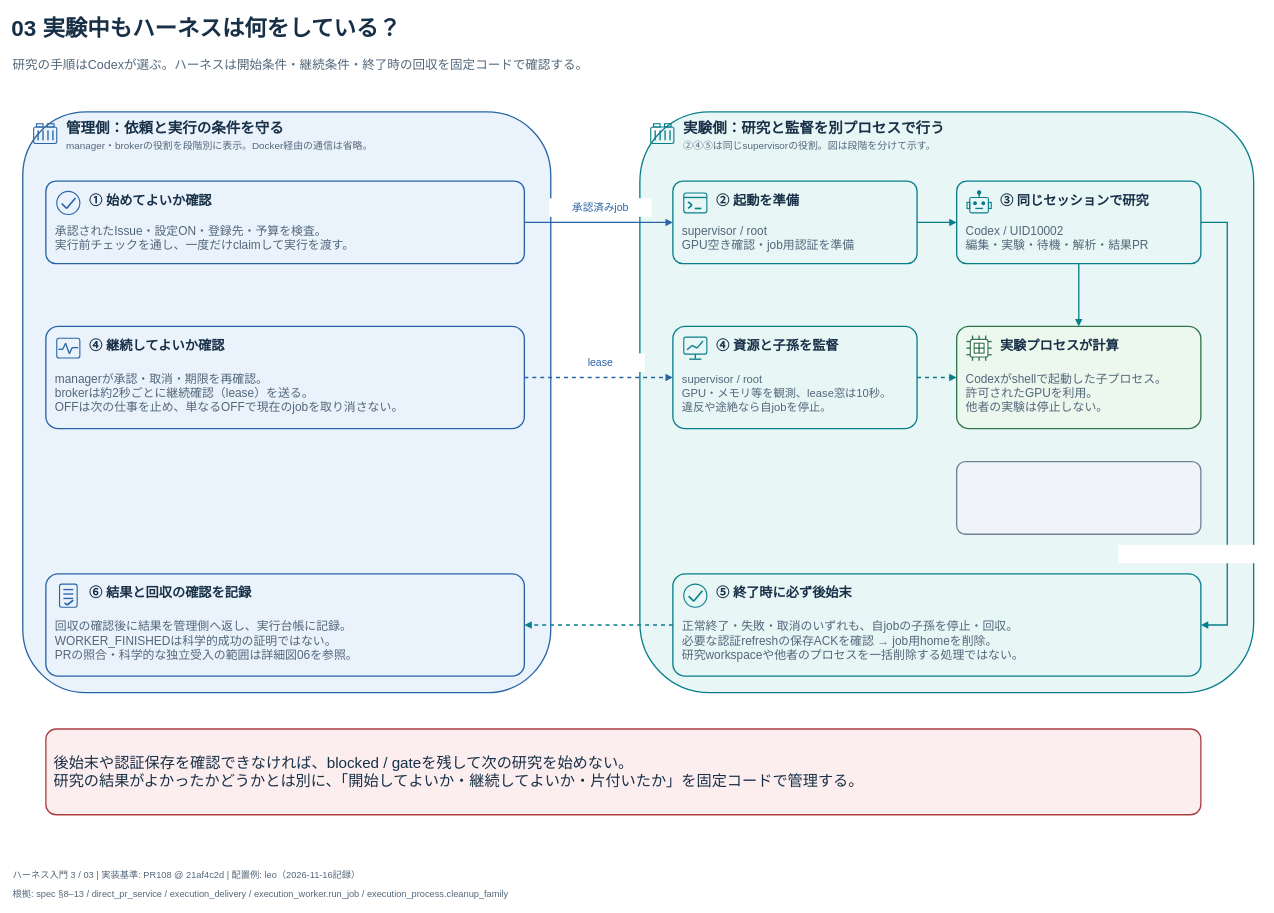
Image size: 1274x913. Some labels were removed from this diagram. The box of each missing label's shape, as (x1, y1, x2, y2) in pixels:
Codex終了・失敗・取消: (1118, 544, 1263, 563)
実験待ちも同じCodexセッション。 終了後の解析用にCodexを呼び直す構 成ではない。: (956, 461, 1201, 535)
